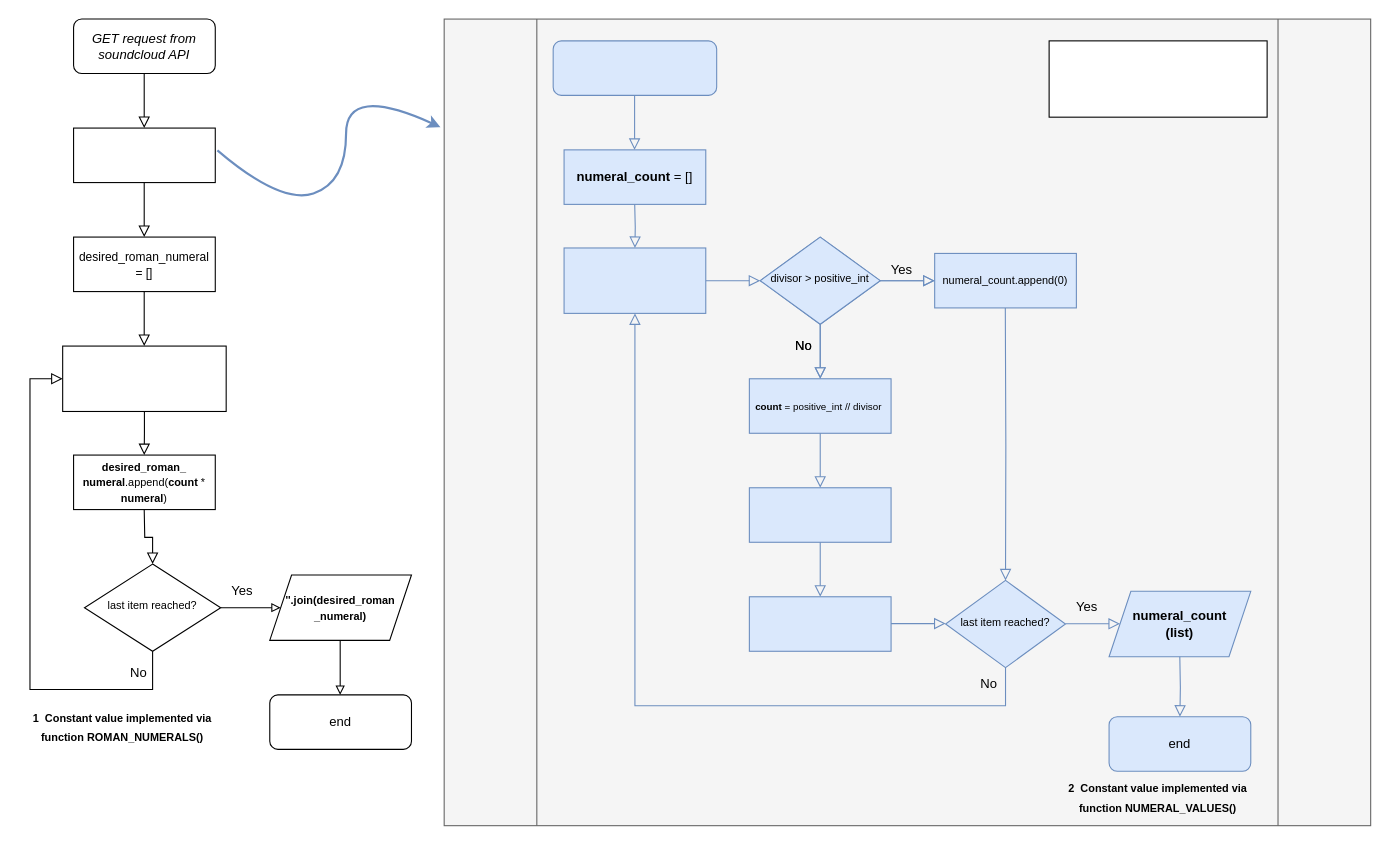
The diagram is 1390 pixels wide and 845 high, and some of its shapes have lost their labels. Each missing label, with the centre of its shape:
"Clean data for artists and songs" goes at point (143, 155).
"for divisor in NUMERAL_VALUES 2" goes at point (634, 280).
"for numeral , count in zip( ROMAN_NUMERALS 1 , numeral_count )" goes at point (144, 378).
"helper function roman_numeral_factors()" goes at point (1157, 78).
"numeral_count.append(count)" goes at point (819, 514).
"positive_int -= divisor * count" goes at point (819, 623).
"roman_numeral_factors() arg: positive_int" goes at point (634, 67).
